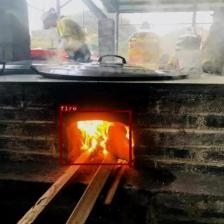fire: (59, 110, 131, 165)
